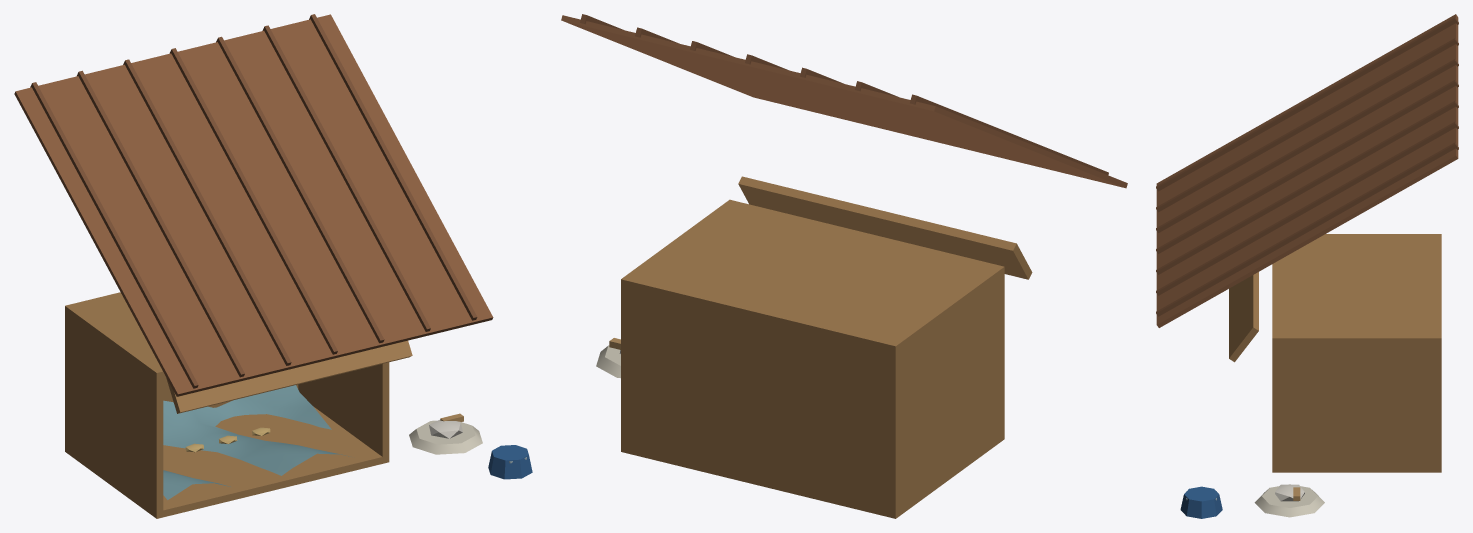
Rendered from cho_meo_hoang.glb.
3 renders of one model, left to right at view 1: azimuth 30°, elevation 25°; view 2: azimuth 150°, elevation 25°; view 3: azimuth 270°, elevation 25°, orthographic. The views are drawn at different scales.
Visible parts, largest first — view 1: cho_meo_hoang; view 2: cho_meo_hoang; view 3: cho_meo_hoang.
Part boxes in pixels (box(x1,y1,x2,y2)): cho_meo_hoang: box(14, 14, 532, 518); cho_meo_hoang: box(561, 14, 1127, 518); cho_meo_hoang: box(1156, 14, 1458, 518).
Bounding box in the file's own units: 1.13 × 1.07 × 0.8586.
